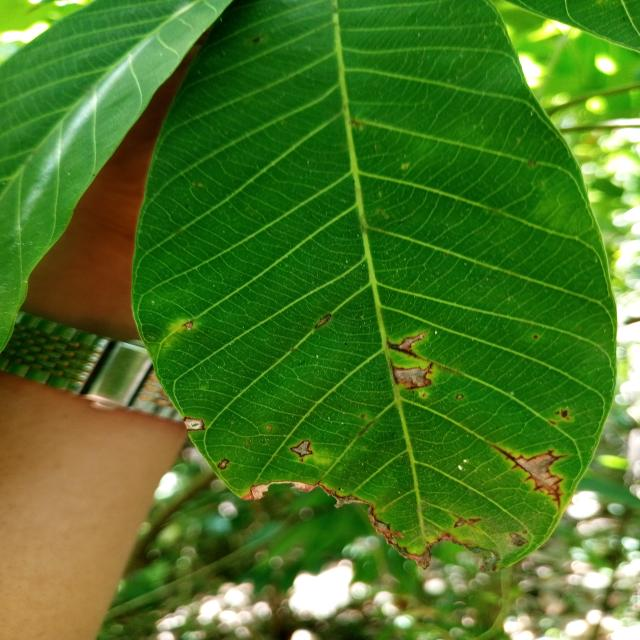Corynespora: (492, 444, 569, 510)
Leaf-Blight: (251, 481, 317, 499), (394, 368, 431, 388), (399, 333, 426, 349), (293, 441, 312, 456), (185, 418, 204, 430)
